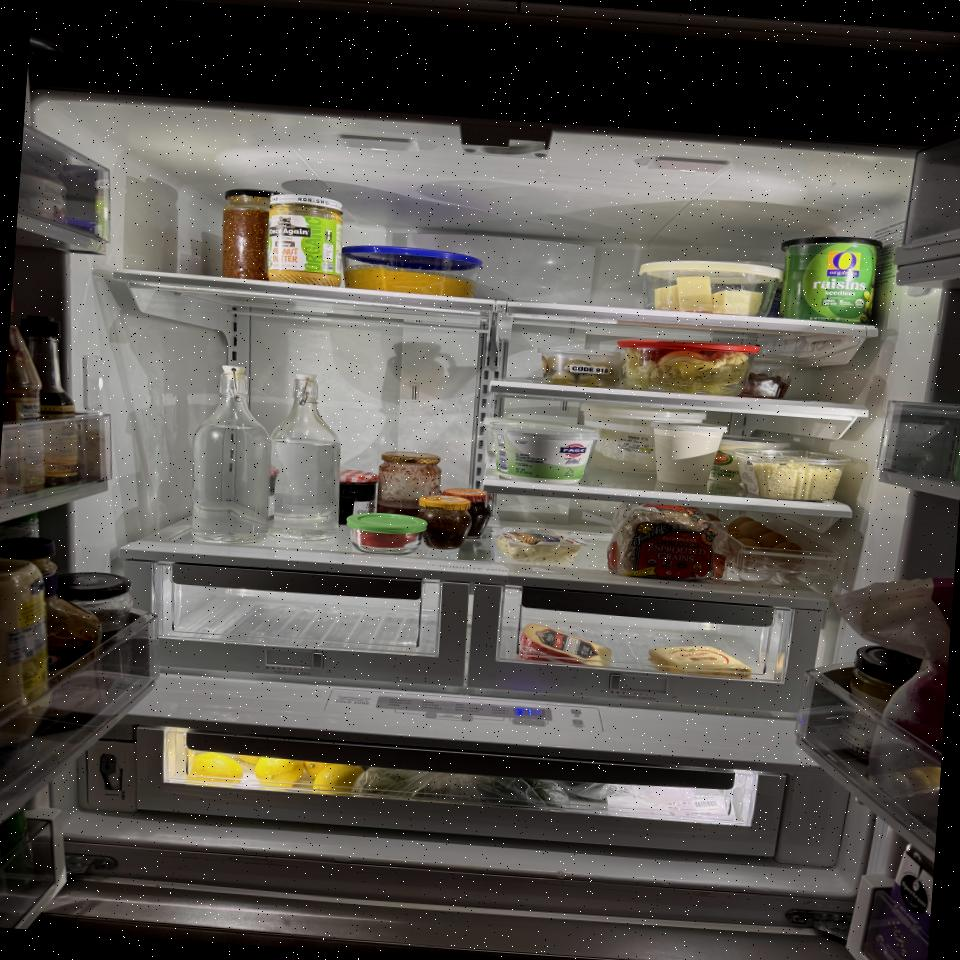Huevos: (703, 513, 812, 575)
Limón: (188, 752, 246, 785), (312, 762, 365, 796), (253, 754, 304, 788)
Queso: (518, 624, 614, 668), (646, 641, 756, 679), (712, 288, 766, 316), (675, 275, 714, 312), (653, 284, 681, 312)
Yogur: (487, 420, 599, 487)
